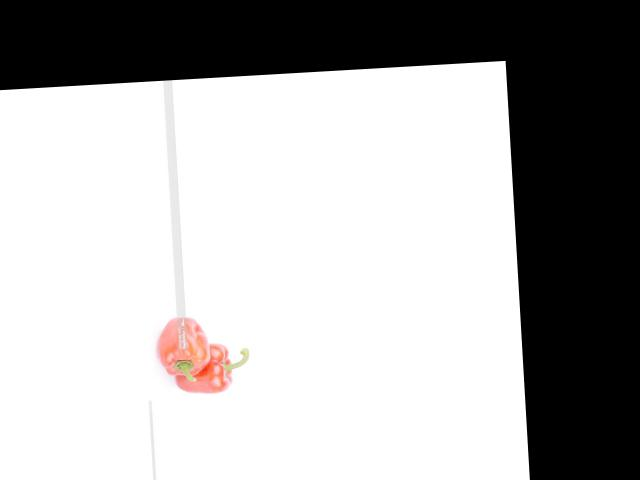bell_pepper: (155, 308, 216, 381)
